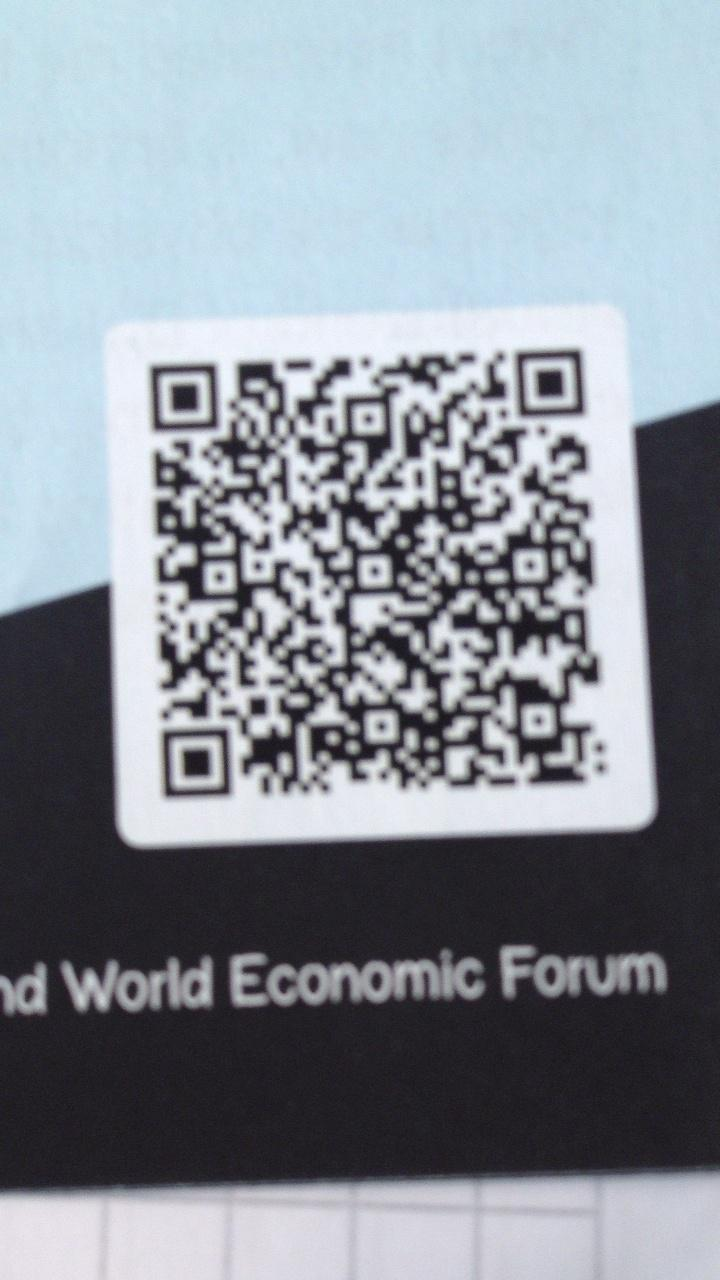Finder pattern: (151, 724, 242, 804), (505, 341, 590, 424), (141, 355, 226, 434)
